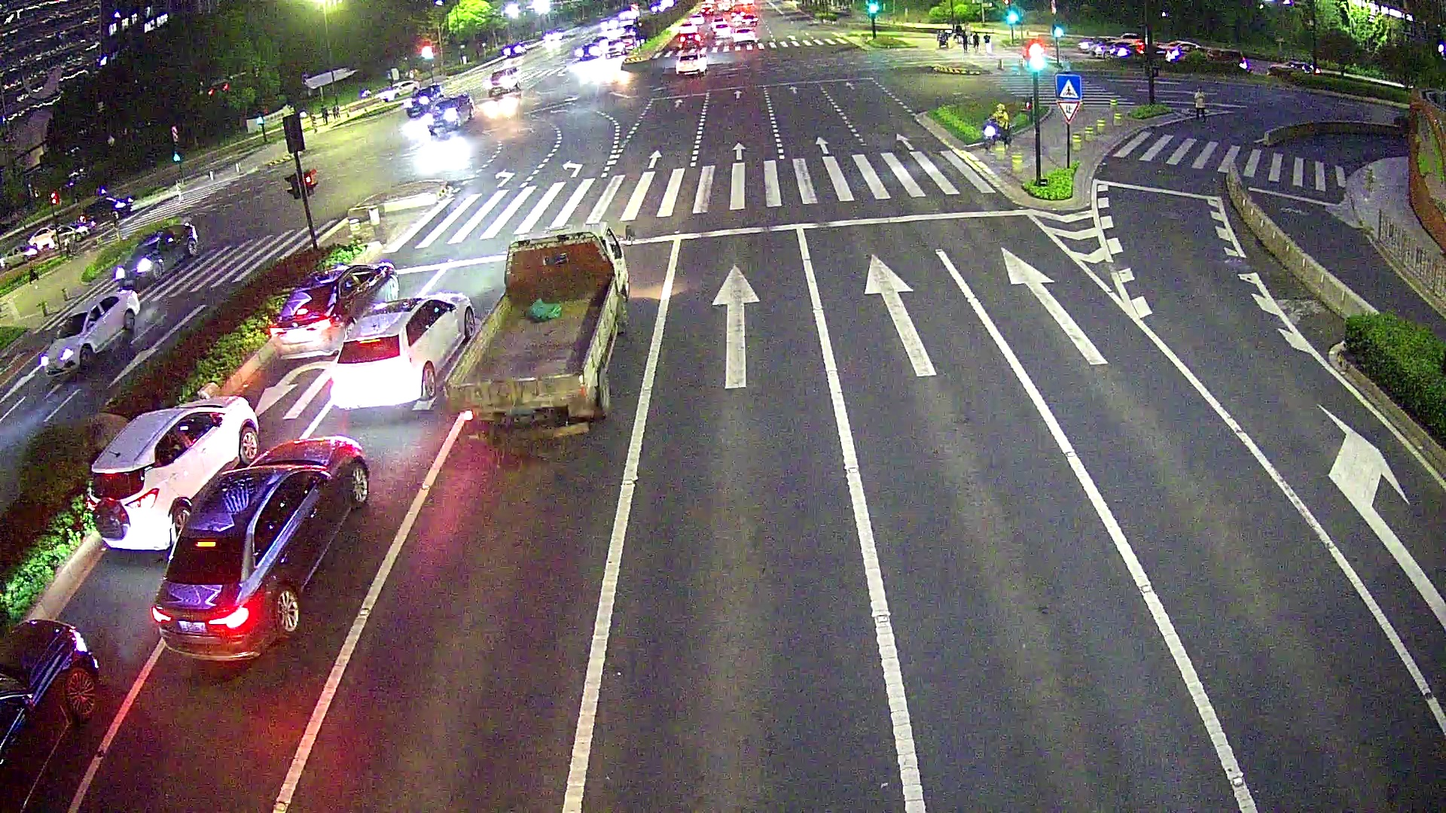vehicle: (147, 431, 372, 666), (440, 219, 636, 443), (85, 391, 263, 555), (326, 290, 476, 414), (260, 256, 401, 364), (36, 288, 141, 377), (110, 221, 197, 287)
